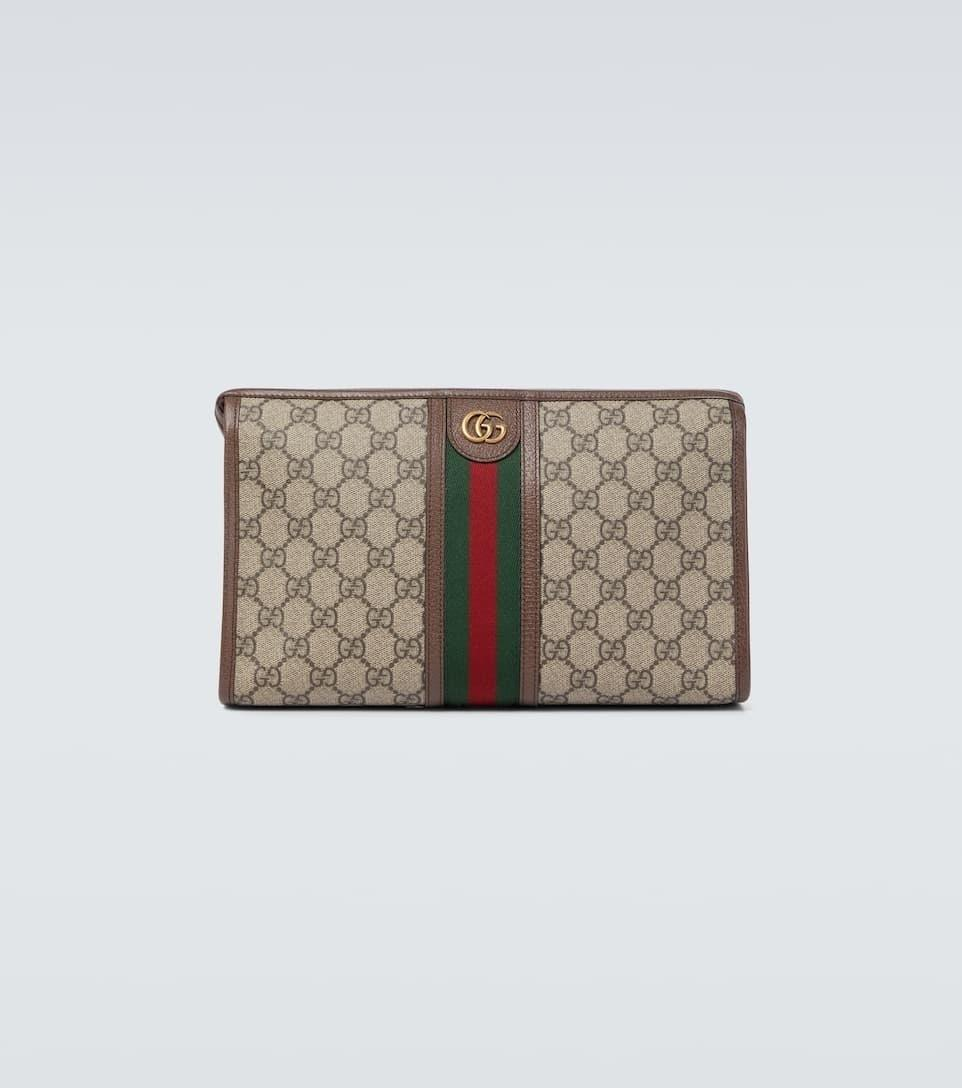GUCCI: (461, 409, 508, 443)
